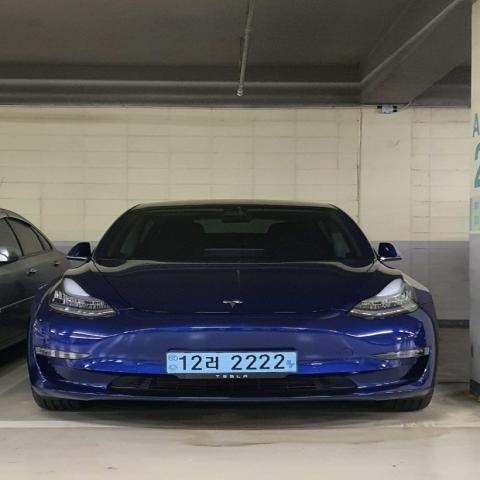LP: (160, 342, 304, 380)
